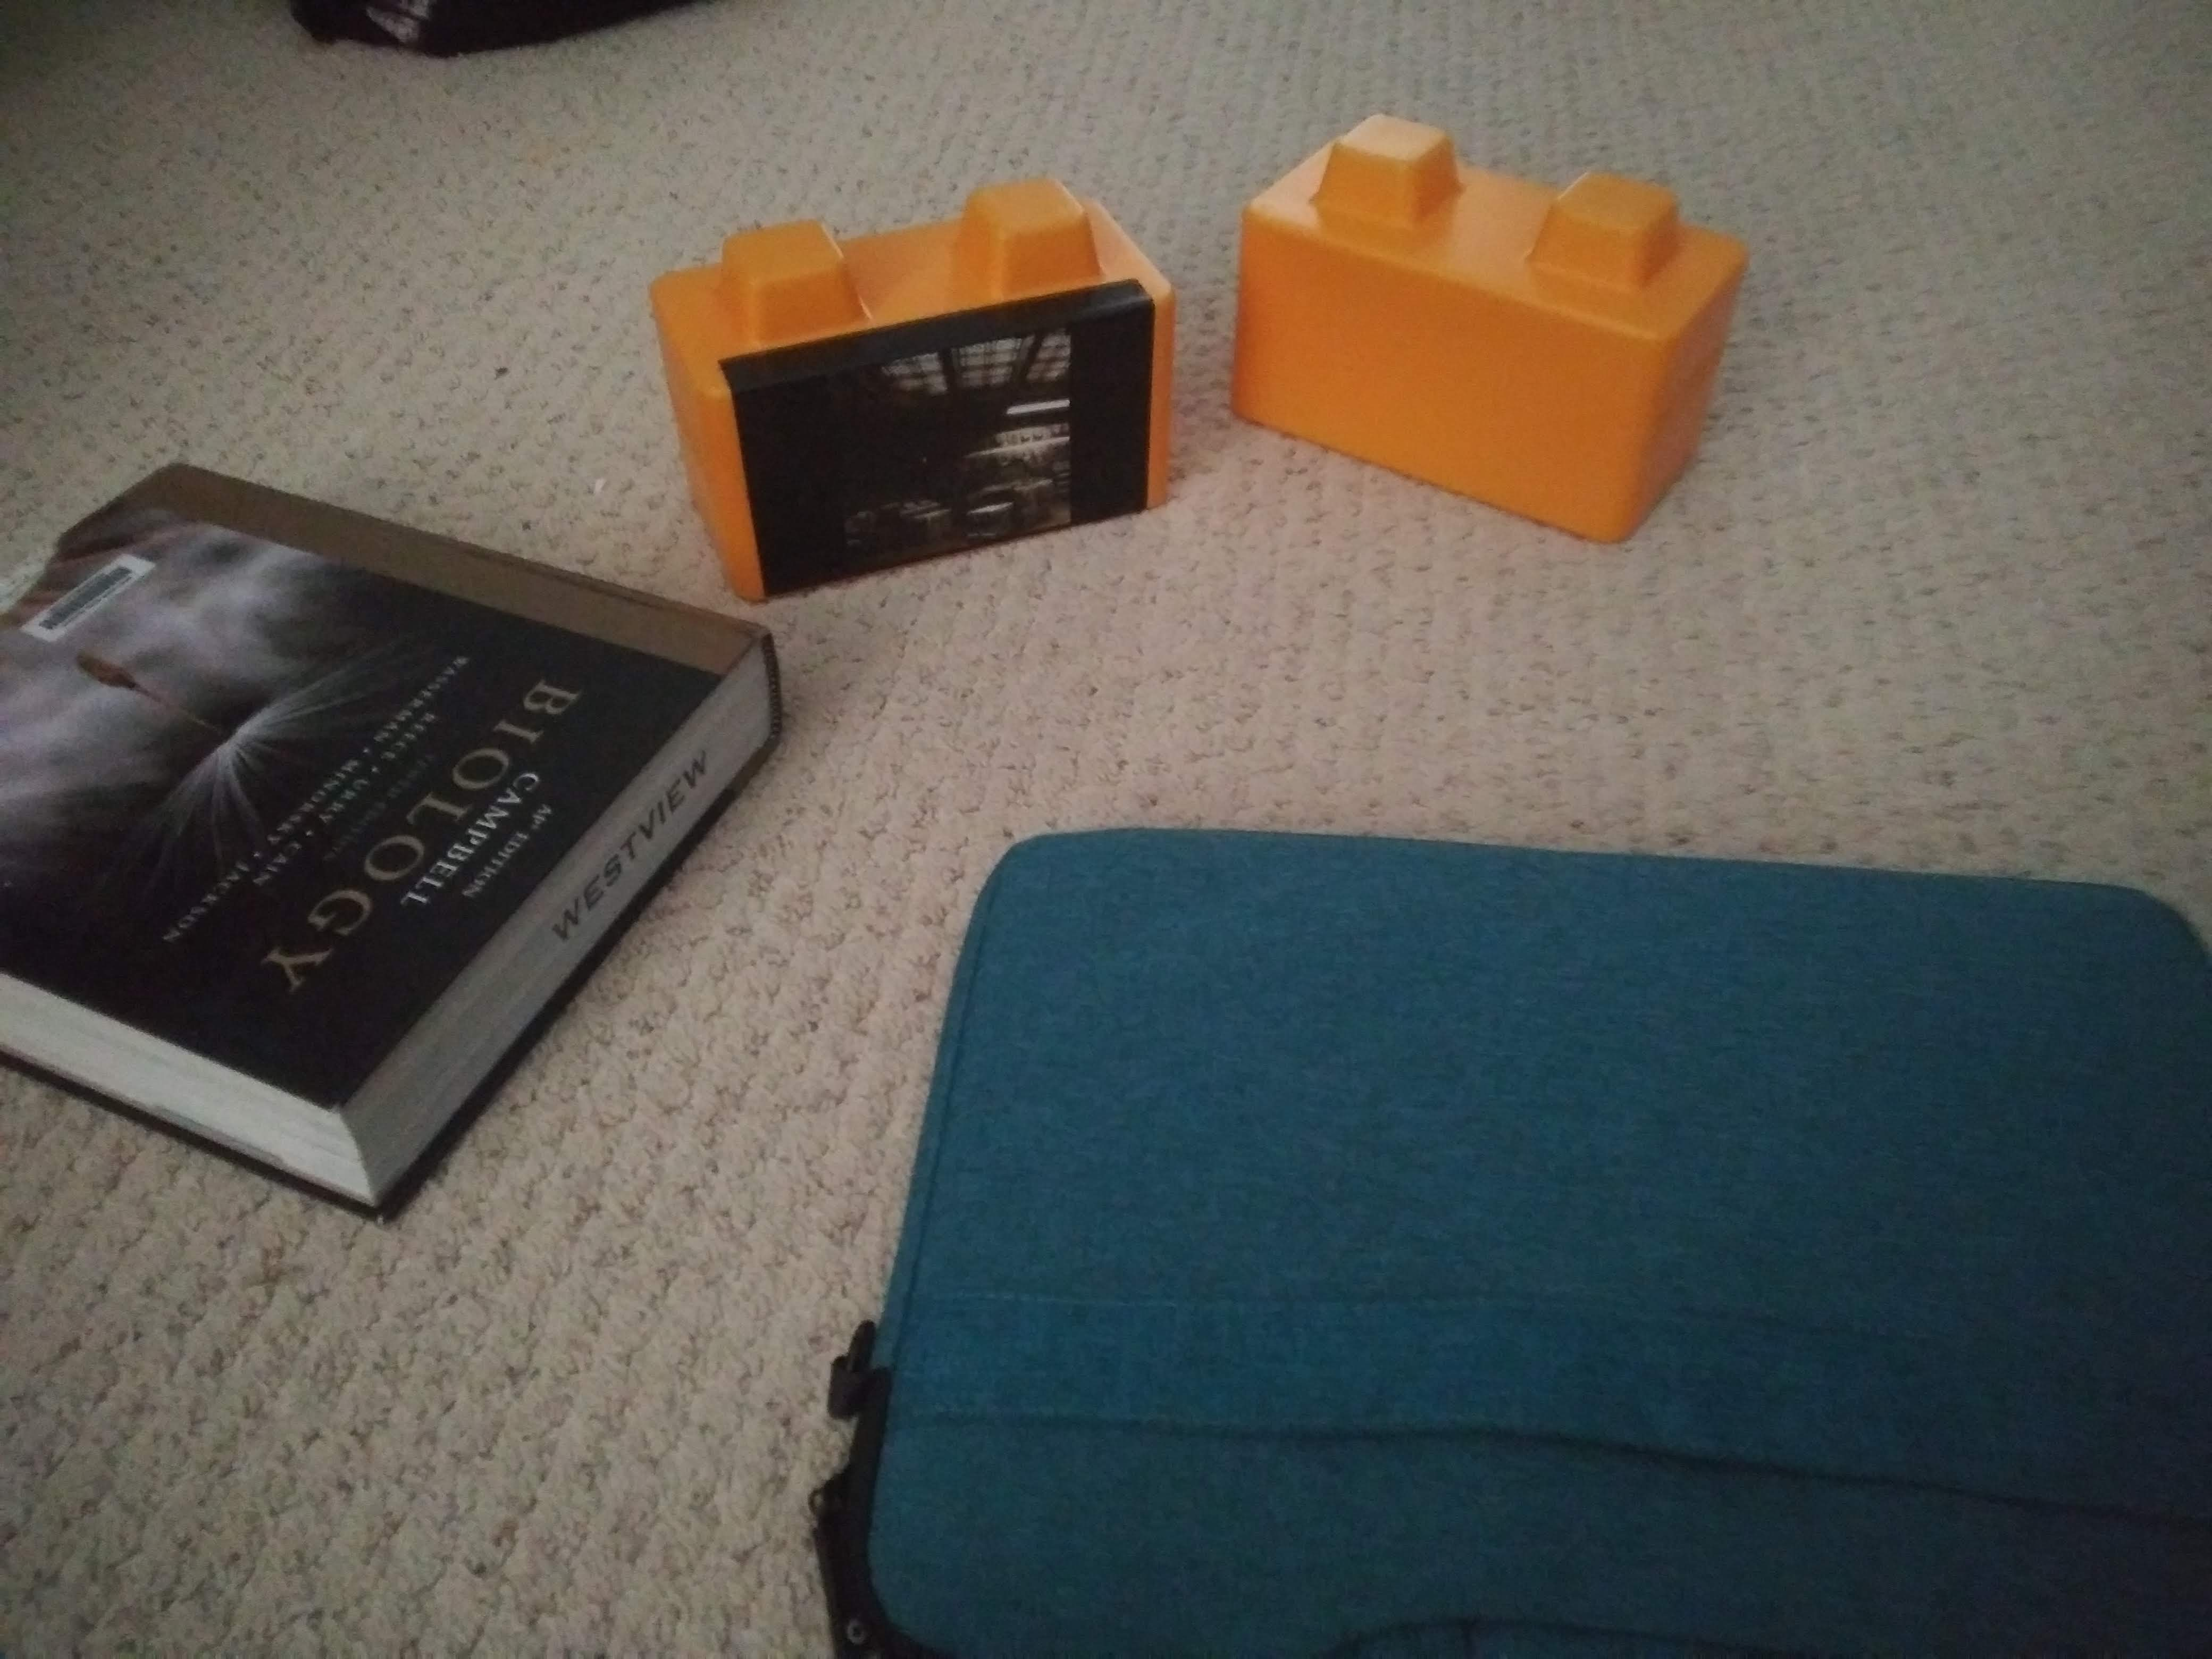skystone: (665, 225, 1170, 568)
stone: (1226, 143, 1719, 535)
